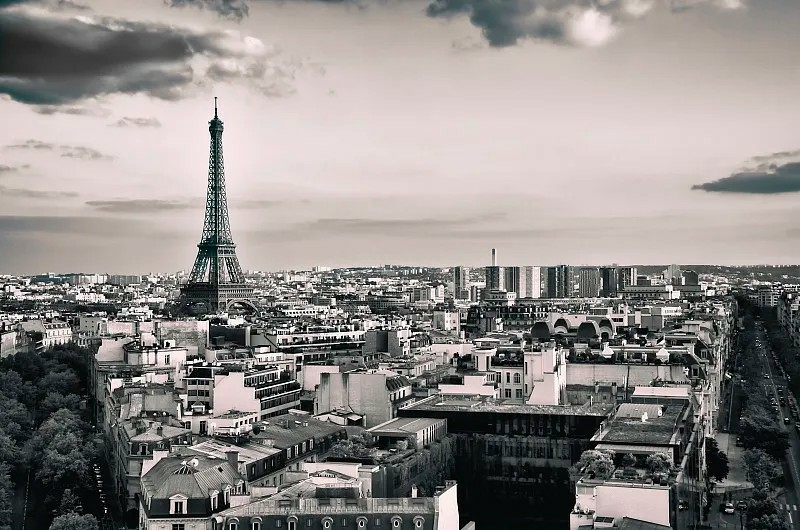Eiffel: (176, 97, 260, 322)
